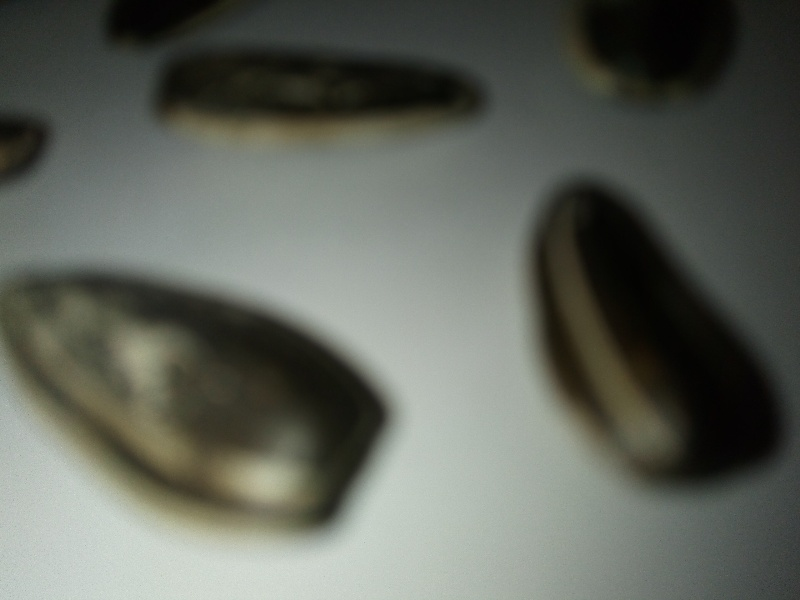girasol: (495, 160, 800, 507)
